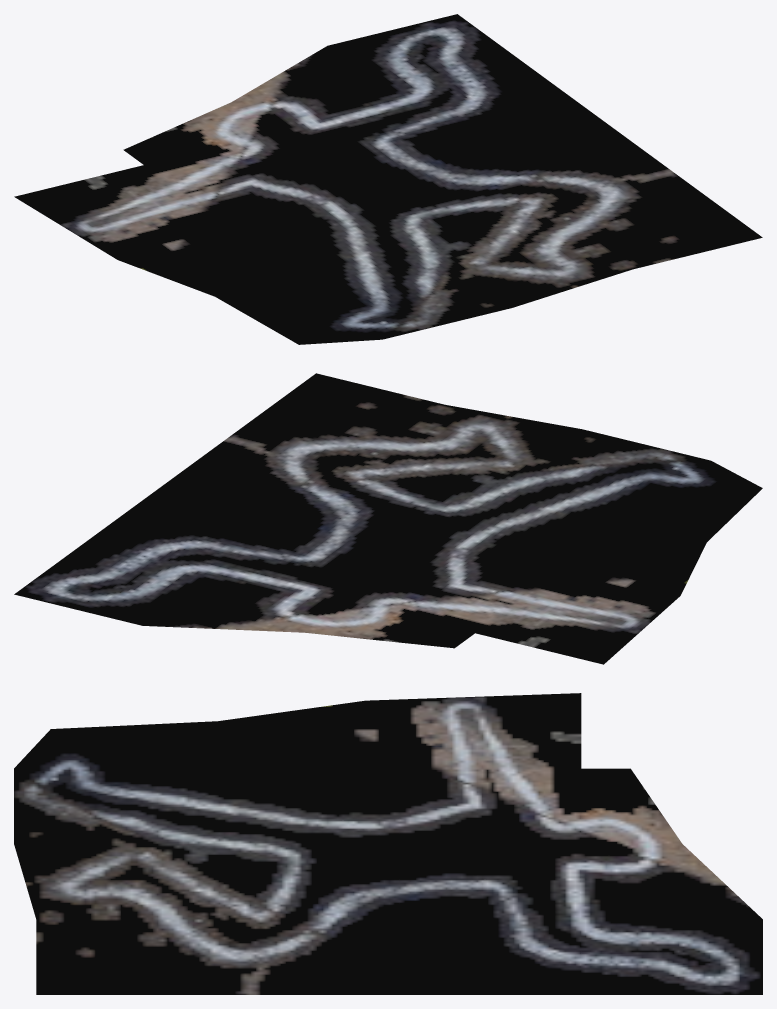
Rendered from stiff.FBX.
3 renders of one model, top to bottom at view 1: azimuth 30°, elevation 25°; view 2: azimuth 150°, elevation 25°; view 3: azimuth 270°, elevation 25°, orthographic. The views are drawn at different scales.
Visible parts, largest first — view 1: stiff; view 2: stiff; view 3: stiff.
Part boxes in pixels (left/top/right/bottom): stiff: left=14, top=14, right=762, bottom=344; stiff: left=14, top=373, right=762, bottom=664; stiff: left=14, top=693, right=762, bottom=994.
Bounding box in the file's own units: 35.02 × 7.72e-06 × 36.73.
